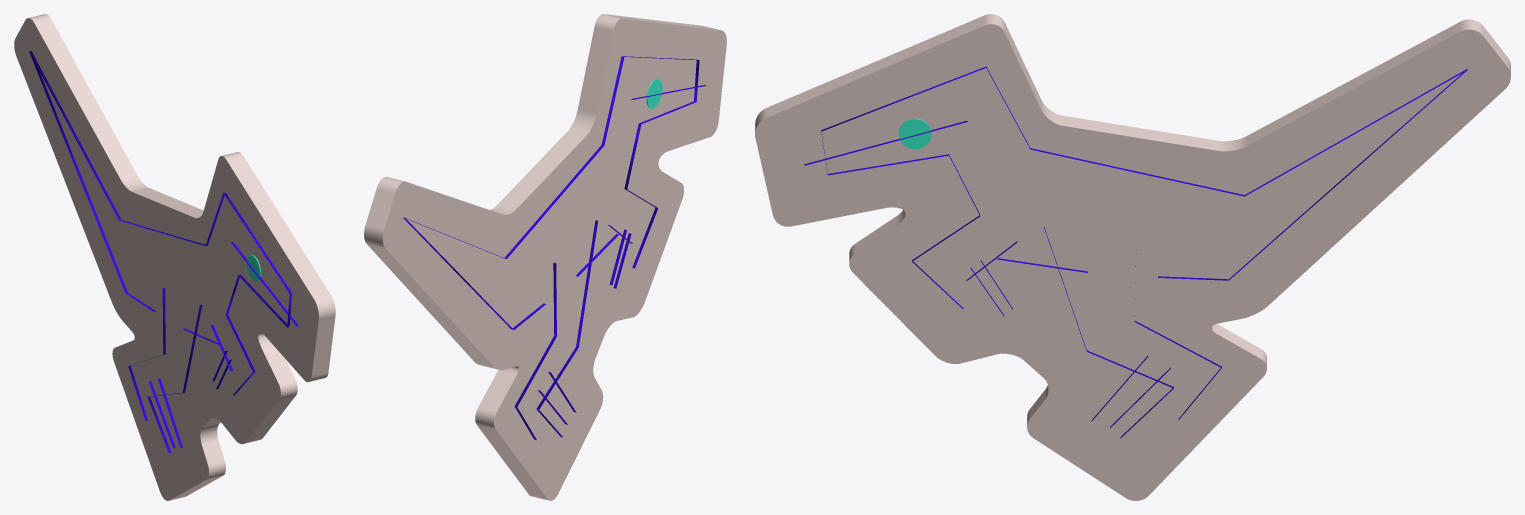
3 renders of one model, left to right at view 1: azimuth 30°, elevation 25°; view 2: azimuth 150°, elevation 25°; view 3: azimuth 270°, elevation 25°, orthographic. The views are drawn at different scales.
Parts seen in each view (by area): view 1: Curve, Curve.002; view 2: Curve, Curve.002; view 3: Curve, Curve.002, EYE.
Boxes of the visible parts, x1,y1,x2,y2 form: Curve: [14, 14, 335, 500]; Curve.002: [29, 51, 298, 453]; Curve: [364, 14, 726, 500]; Curve.002: [403, 56, 706, 440]; Curve: [755, 14, 1510, 500]; Curve.002: [804, 66, 1467, 438]; EYE: [898, 118, 931, 149].
Bounding box in the file's own units: 0.00273 × 0.0439 × 0.063.
